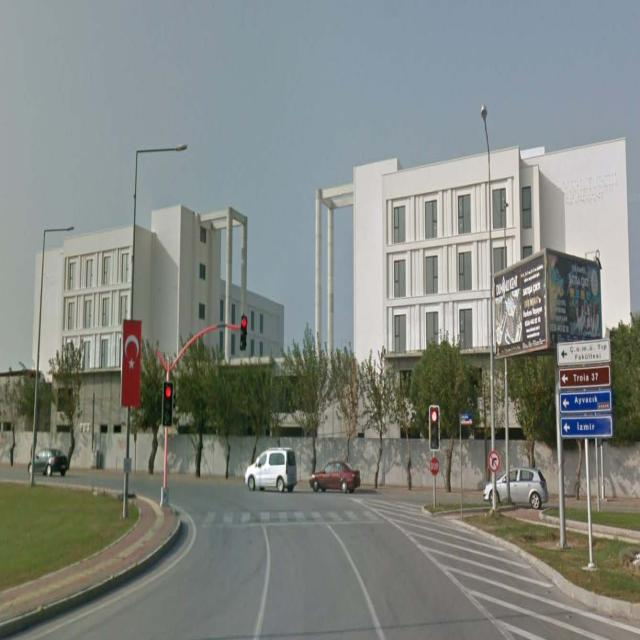dur: (430, 458, 440, 477)
kirmizi: (430, 404, 440, 453), (163, 382, 173, 422), (241, 315, 247, 352)
sagadonulmez: (488, 451, 500, 471)
